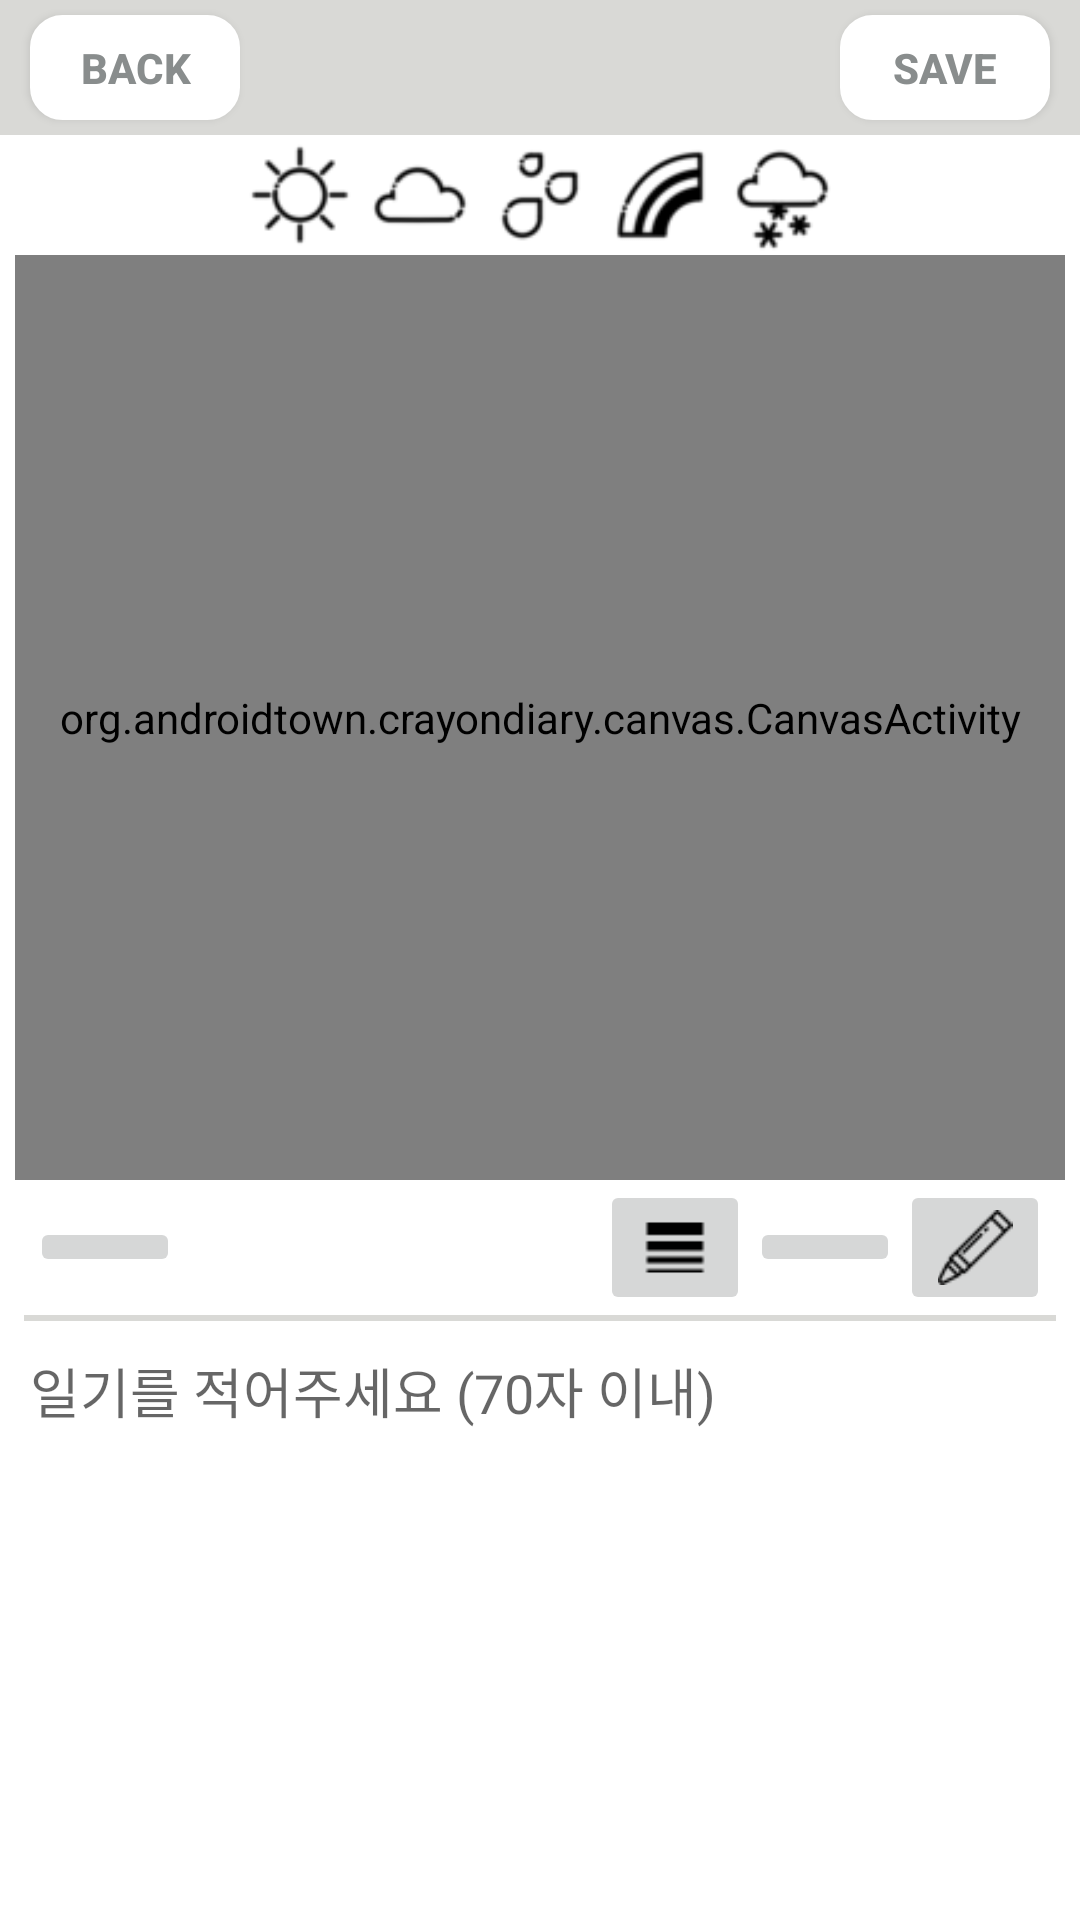

Icons on this 1080w x 1920h Android screen, each with the point to tap as (x=x, y=y):
brush type: (x=975, y=1247)
brush weight: (x=675, y=1247)
